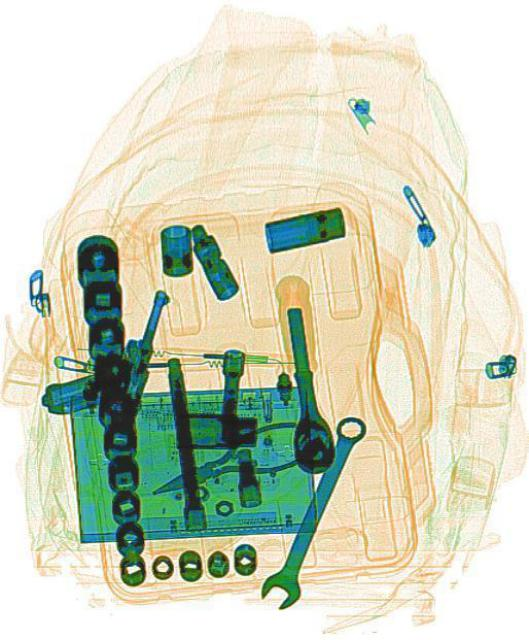Gun: (35, 258, 176, 444)
Pliers: (142, 413, 305, 511)
Wrench: (255, 408, 370, 614)
